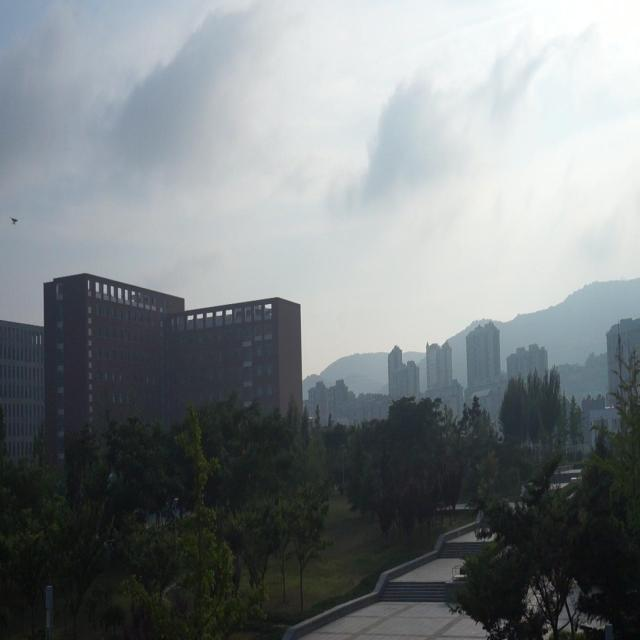drone: (7, 213, 22, 230)
